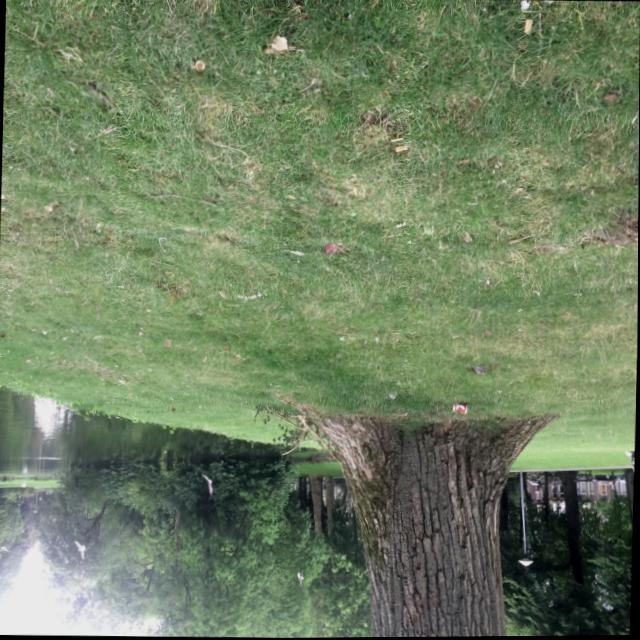Can-Metal: (451, 395, 473, 416), (469, 392, 474, 398)
